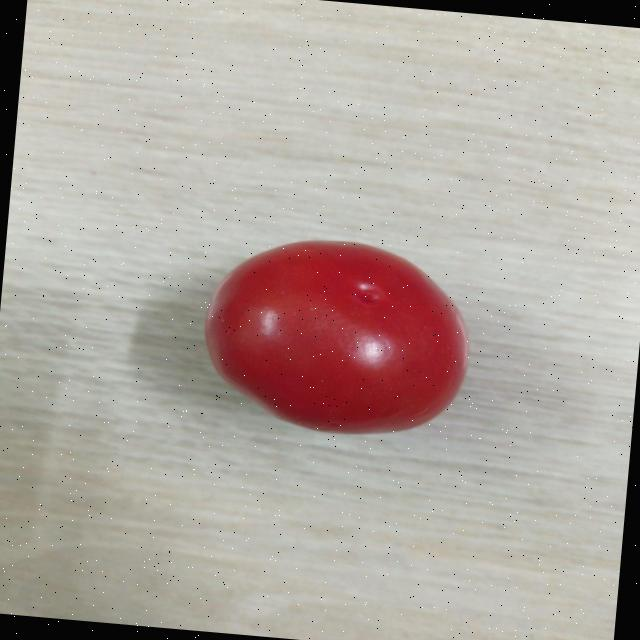Ripe: (193, 225, 483, 444)
